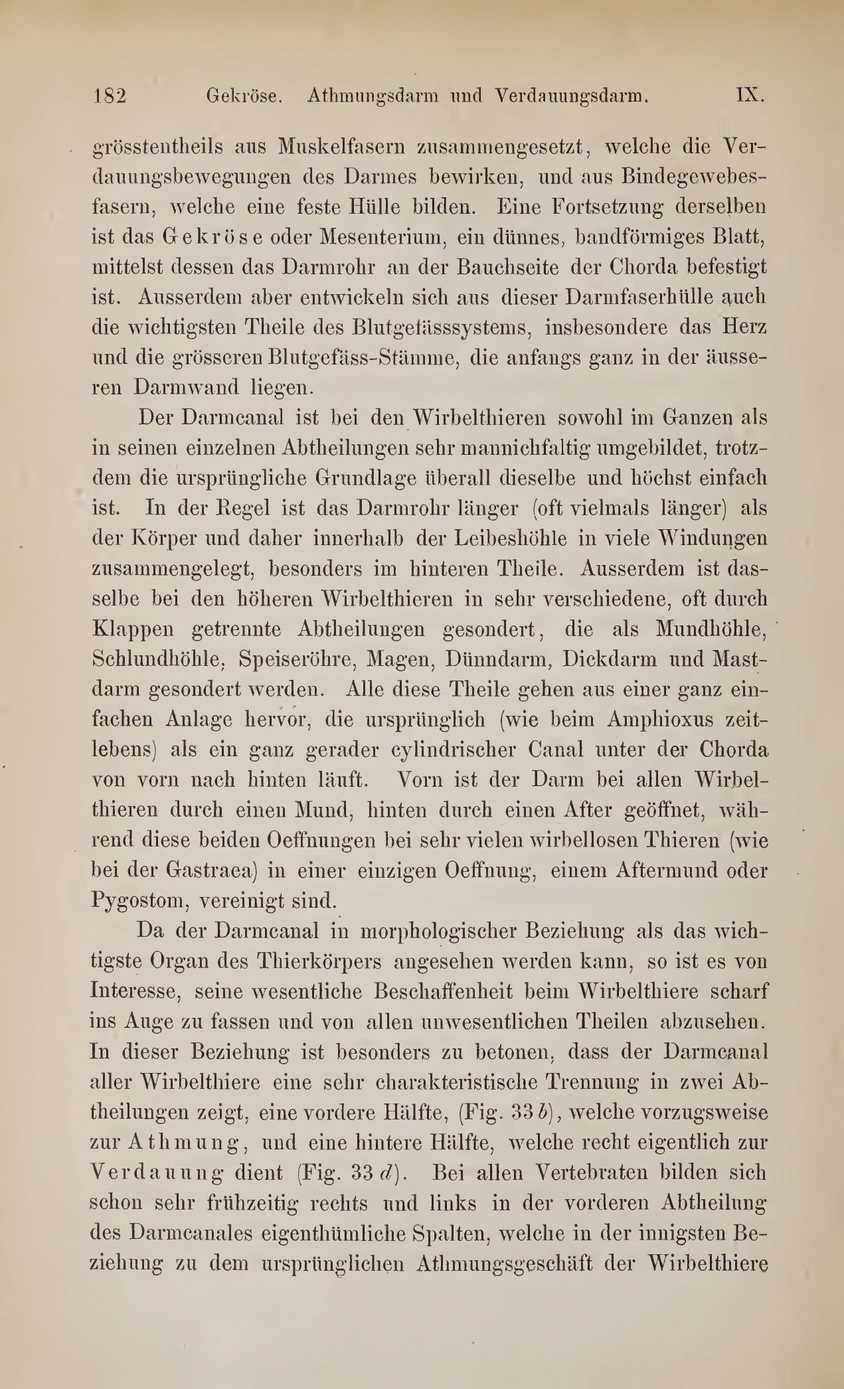MainZone: (66, 123, 791, 1290)
NumberingZone chapter: (720, 66, 776, 122)
NumberingZone_page: (80, 70, 140, 125)
RunningTitleZone: (186, 66, 662, 123)
